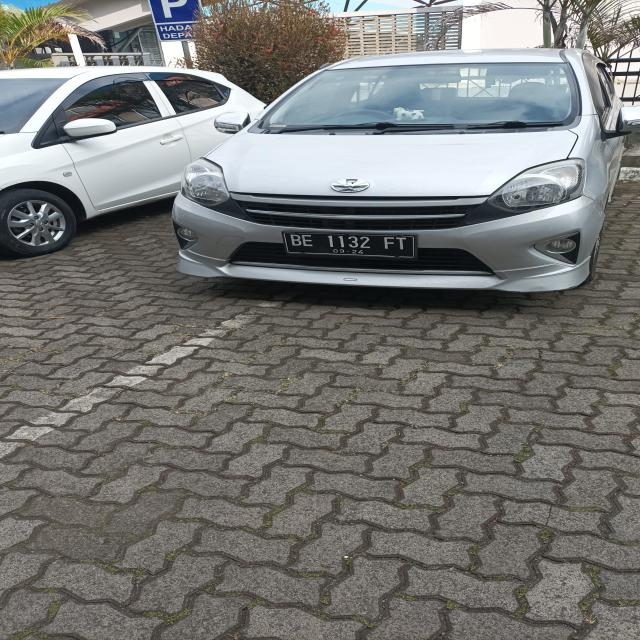license-plat: (280, 230, 424, 263)
